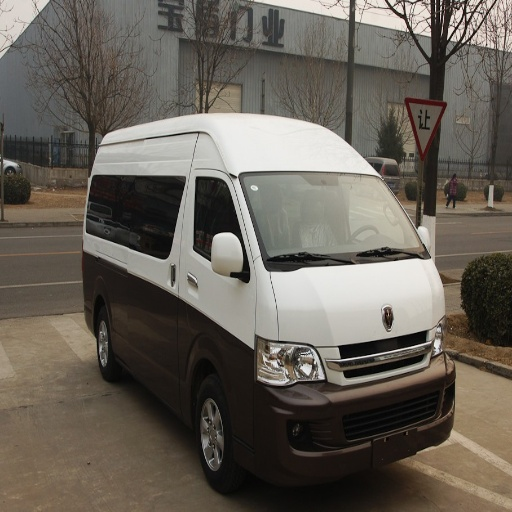front_bumper: (229, 326, 454, 483)
front_right_door: (135, 159, 255, 399)
front_right_light: (259, 340, 324, 387)
hood: (271, 260, 439, 346)
